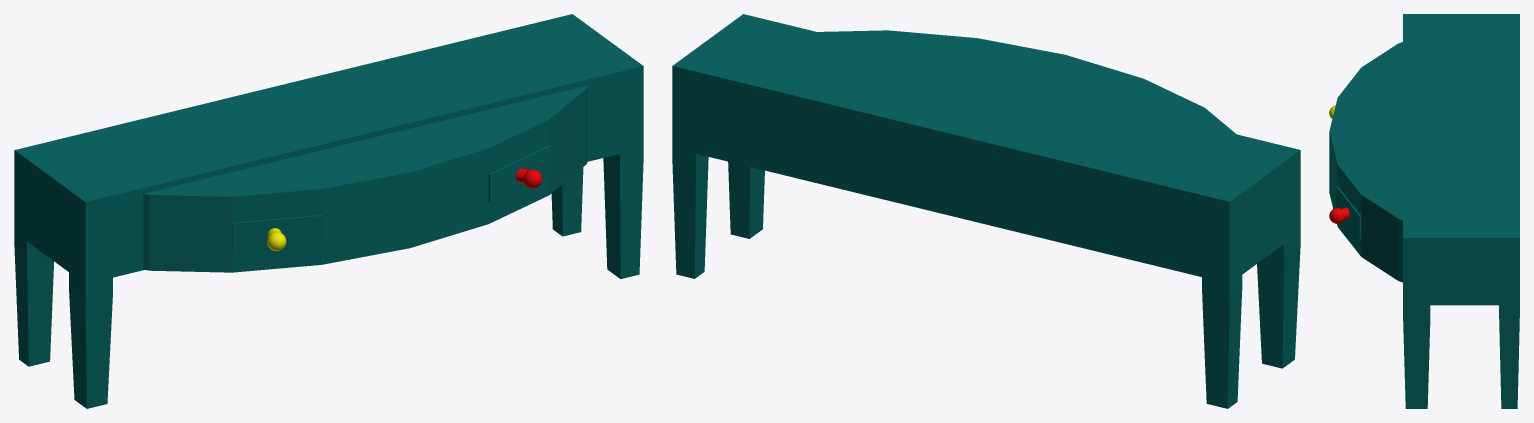
The model's file is Desk.fbx.
The picture shows the model from 3 angles, left to right: view 1: azimuth 30°, elevation 25°; view 2: azimuth 150°, elevation 25°; view 3: azimuth 270°, elevation 25°; orthographic projection. The views are drawn at different scales.
Parts seen in each view (by area): view 1: Desk; view 2: Desk; view 3: Desk, Nob1.
Boxes of the visible parts, x1,y1,x2,y2 form: Desk: [14, 14, 643, 408]; Desk: [672, 14, 1300, 408]; Desk: [1329, 14, 1519, 408]; Nob1: [1329, 207, 1349, 223].
Bounding box in the file's own units: 7.1 × 2.55 × 2.56.
